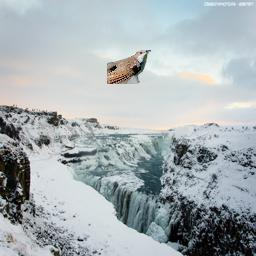Cuckoo: (107, 50, 151, 84)
